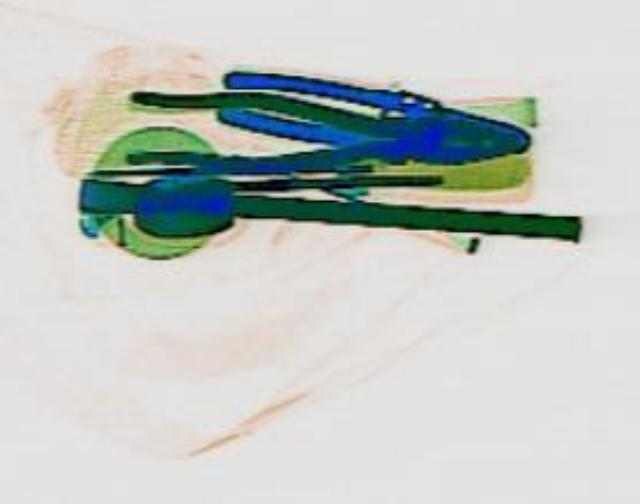Pliers: (119, 82, 517, 181)
